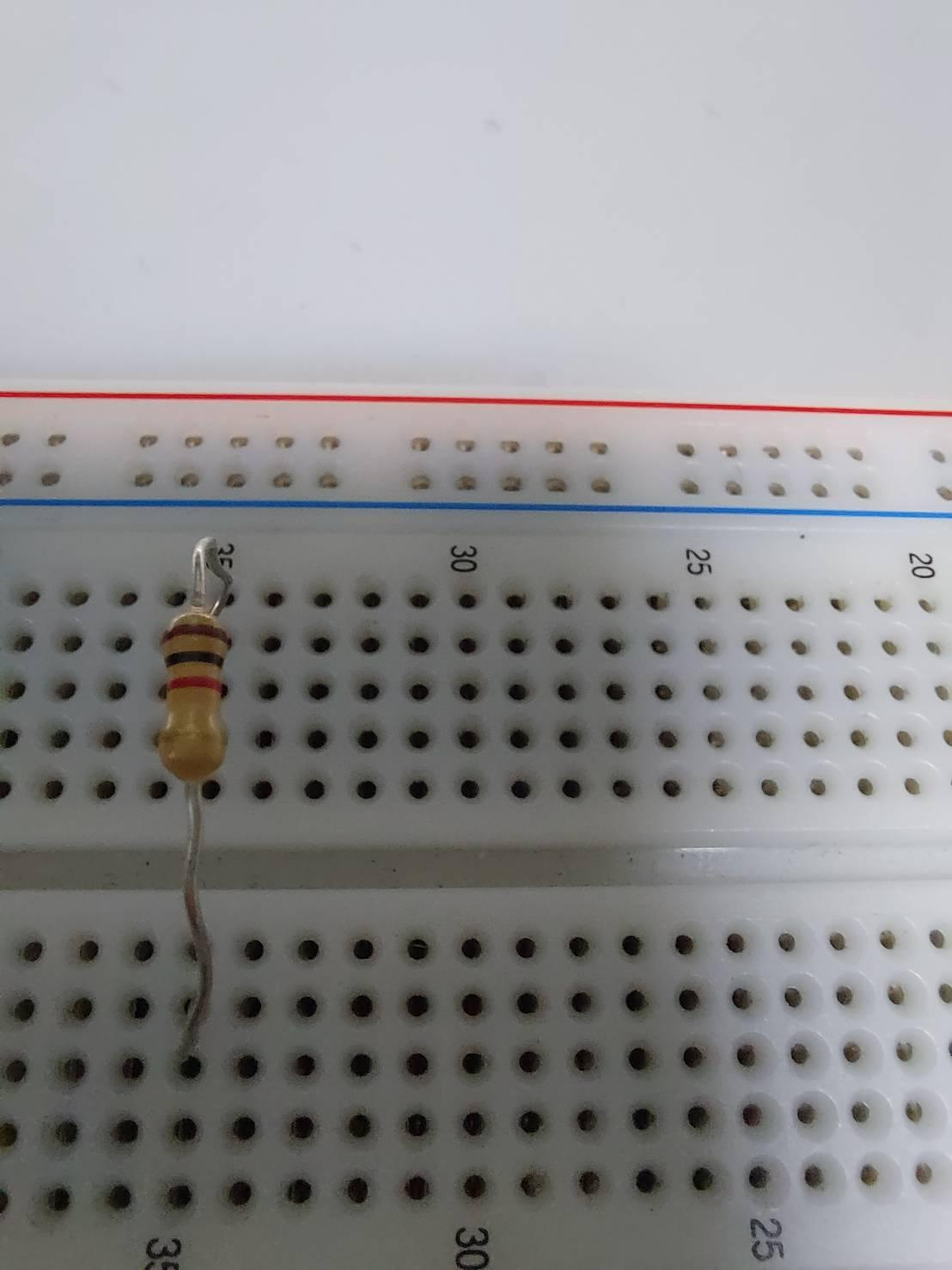resistor: (158, 602, 230, 787)
